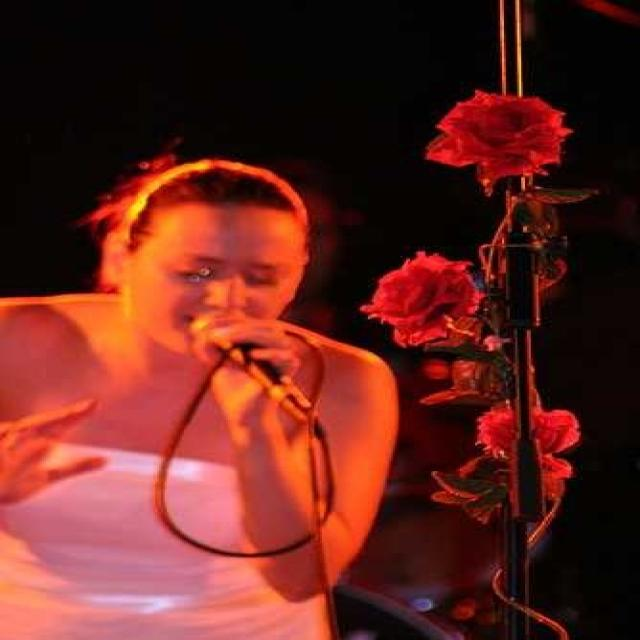microphone: (185, 314, 320, 418)
